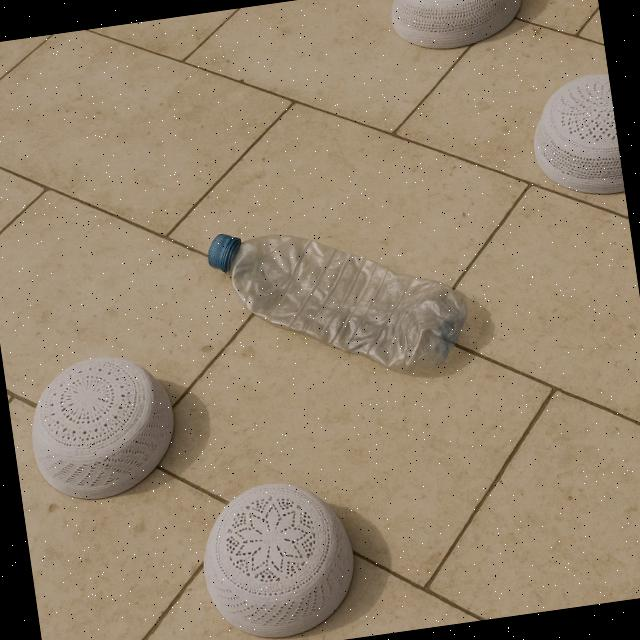plastic: (202, 195, 476, 402)
